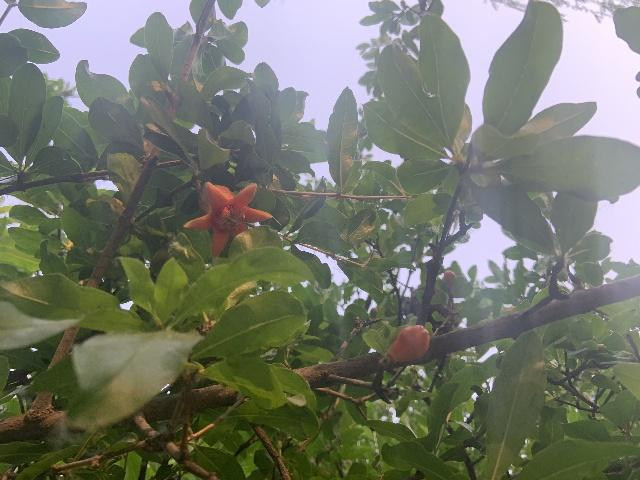bud: (388, 325, 429, 361)
flower: (183, 180, 273, 259)
